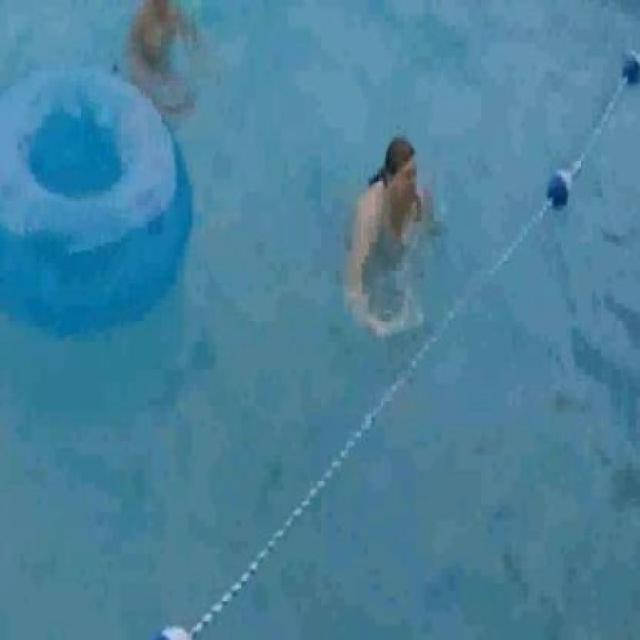drowning: (309, 124, 456, 331)
